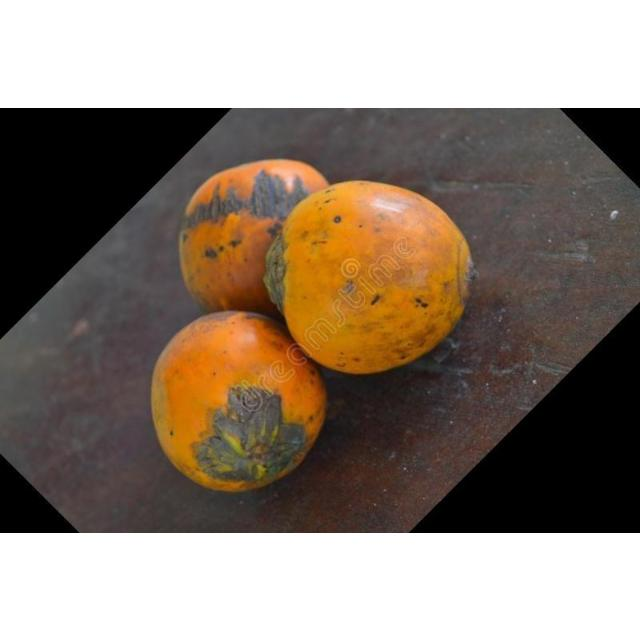good: (265, 180, 472, 376), (150, 310, 328, 494), (178, 159, 330, 318)
